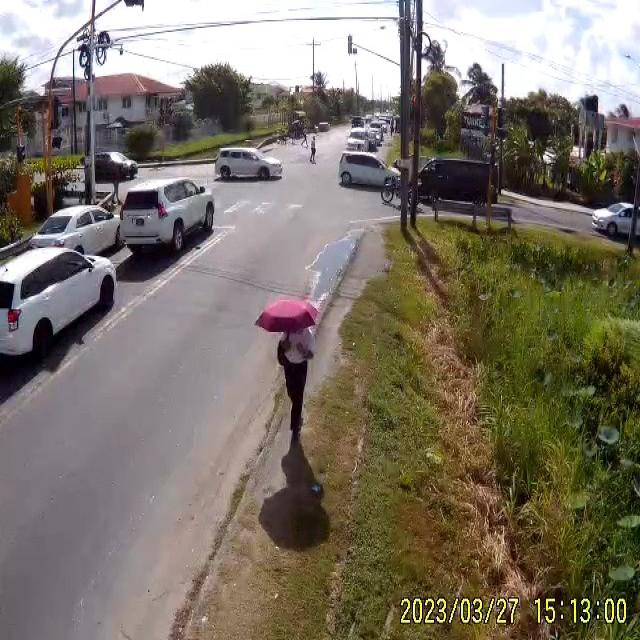car: (0, 242, 119, 374), (120, 178, 216, 256), (29, 205, 124, 257), (415, 156, 498, 215), (213, 147, 284, 182), (338, 151, 392, 190), (592, 202, 638, 241), (93, 150, 139, 182), (315, 122, 329, 132)
person: (274, 322, 316, 434), (308, 134, 316, 162)
